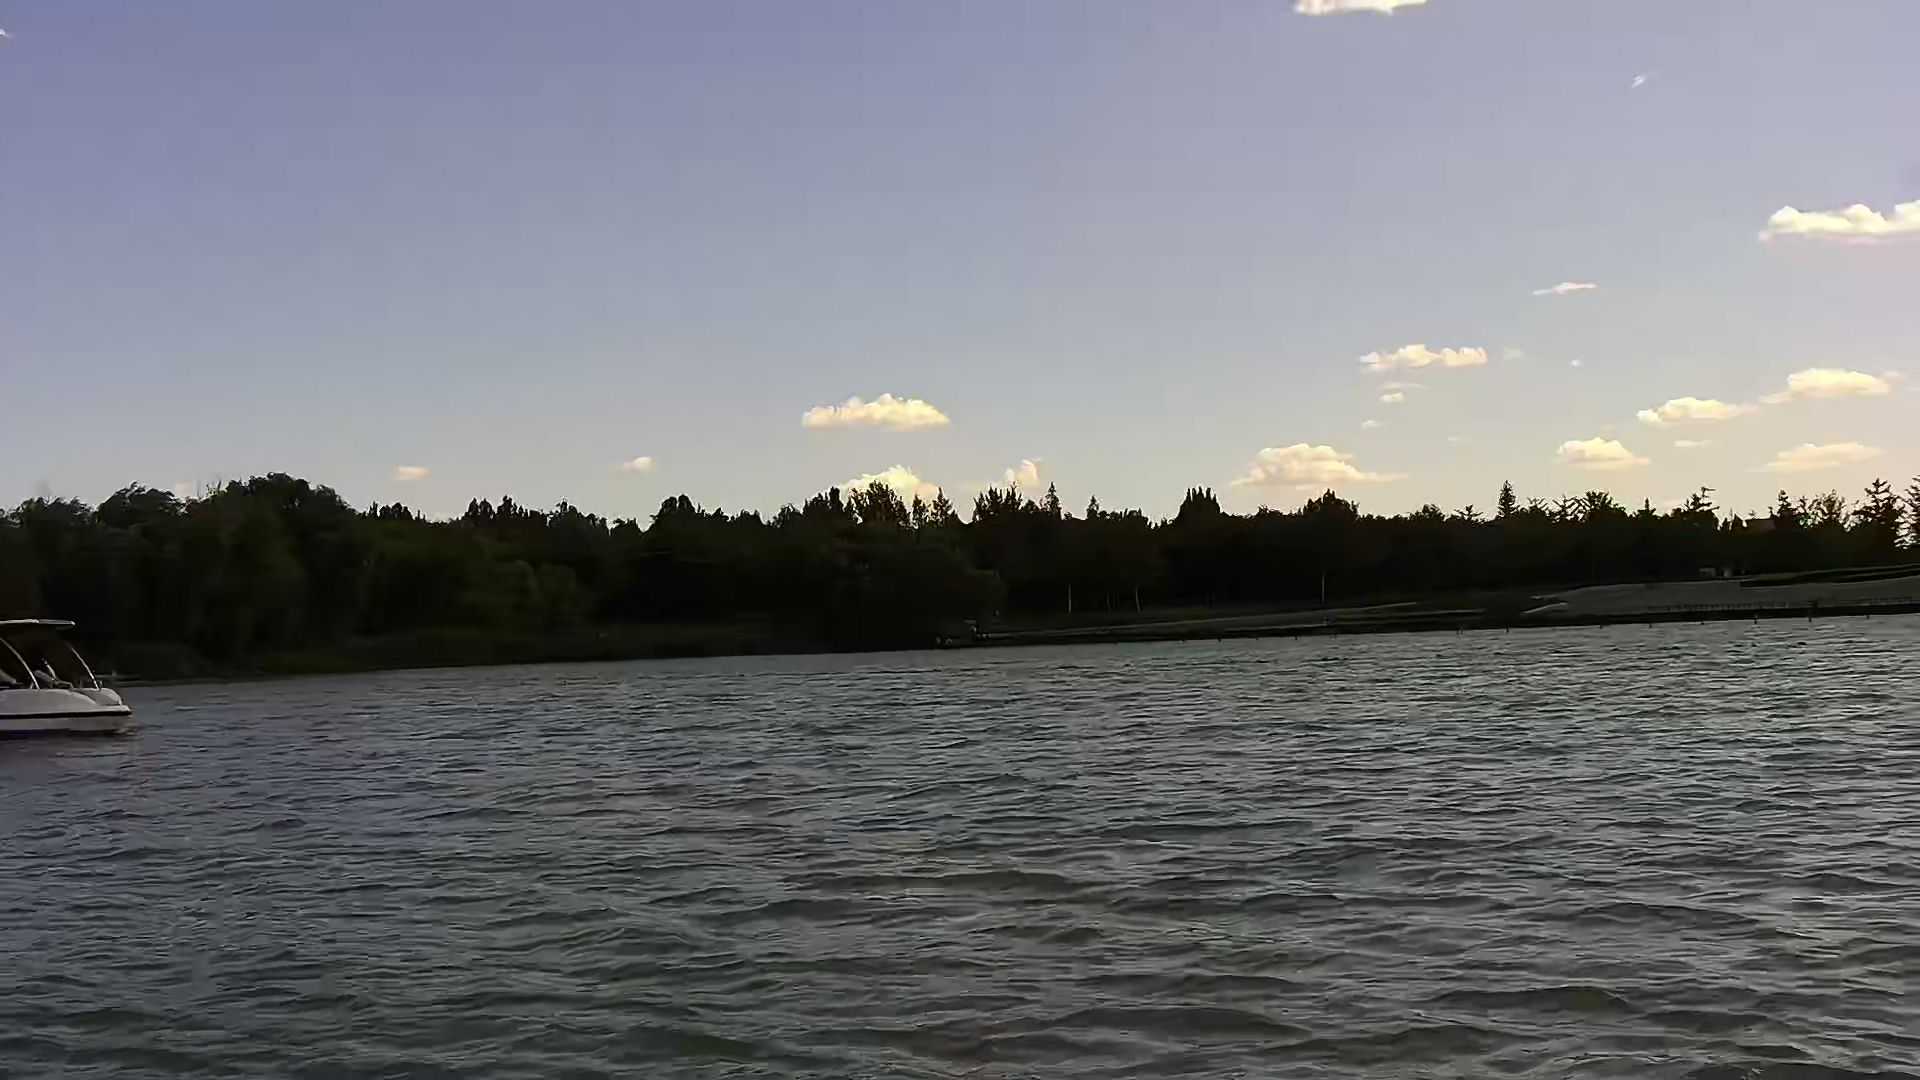harbor: (1002, 549, 1920, 646)
